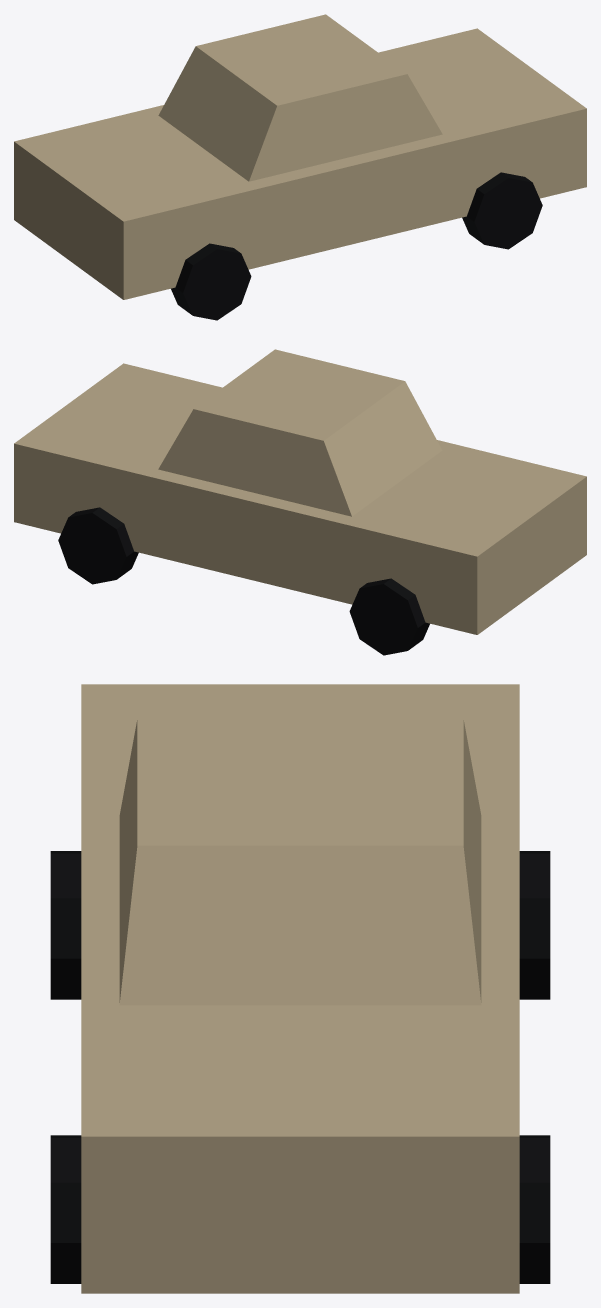
File: proxy_sedan_beige.dae
The picture shows the model from 3 angles, top to bottom: view 1: azimuth 30°, elevation 25°; view 2: azimuth 150°, elevation 25°; view 3: azimuth 270°, elevation 25°; orthographic projection. The views are drawn at different scales.
Visible parts, largest first — view 1: proxy_sedan; view 2: proxy_sedan; view 3: proxy_sedan.
Part boxes in pixels (x1,y1,x2,y2): proxy_sedan: (14, 14, 586, 320); proxy_sedan: (14, 349, 586, 655); proxy_sedan: (50, 684, 550, 1293).
Size of the model in its own units: 4.2 by 1.96 by 1.55.
